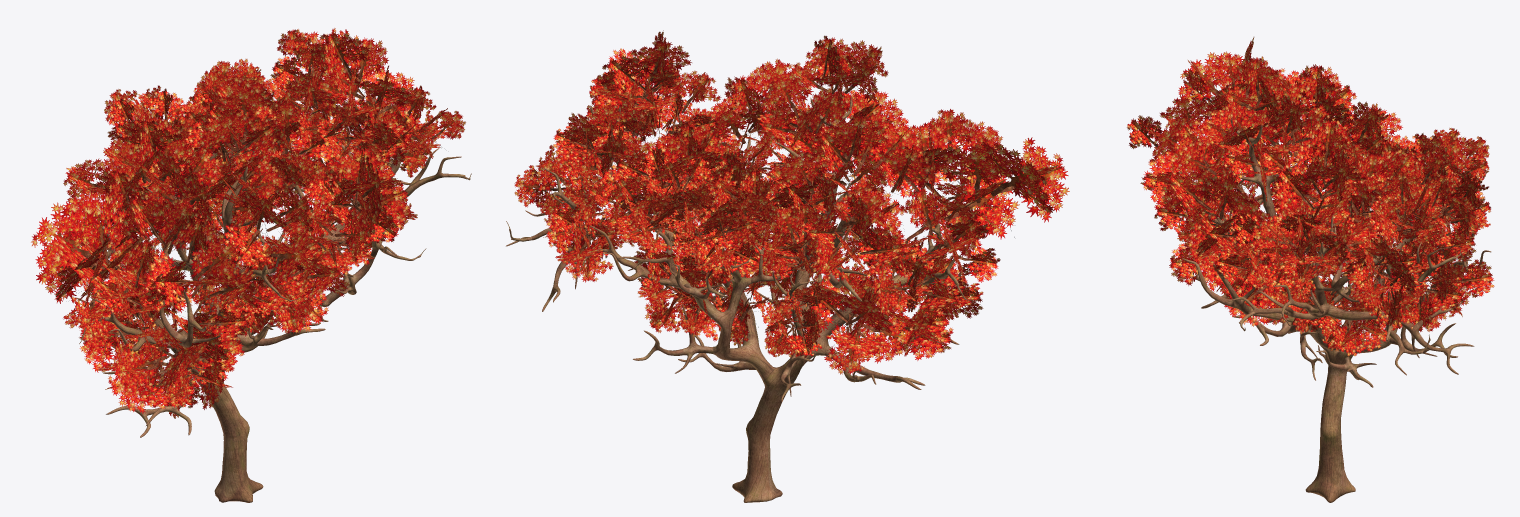
Rendered from japanese_maple.glb.
3 renders of one model, left to right at view 1: azimuth 30°, elevation 25°; view 2: azimuth 150°, elevation 25°; view 3: azimuth 270°, elevation 25°, orthographic. The views are drawn at different scales.
Parts seen in each view (by area): view 1: japanese_maple_leaves.3_0, japanese_maple_tree.2_1; view 2: japanese_maple_leaves.3_0, japanese_maple_tree.2_1; view 3: japanese_maple_leaves.3_0, japanese_maple_tree.2_1.
Boxes of the visible parts, box(x1,y1,x2,y2) form: japanese_maple_leaves.3_0: box(31, 28, 465, 418); japanese_maple_tree.2_1: box(75, 96, 471, 502); japanese_maple_leaves.3_0: box(514, 30, 1069, 374); japanese_maple_tree.2_1: box(506, 96, 973, 502); japanese_maple_leaves.3_0: box(1127, 37, 1494, 356); japanese_maple_tree.2_1: box(1180, 117, 1491, 502).
Size of the model in its own units: 4.47 by 3.98 by 3.27.
2 materials, 2 textured.
